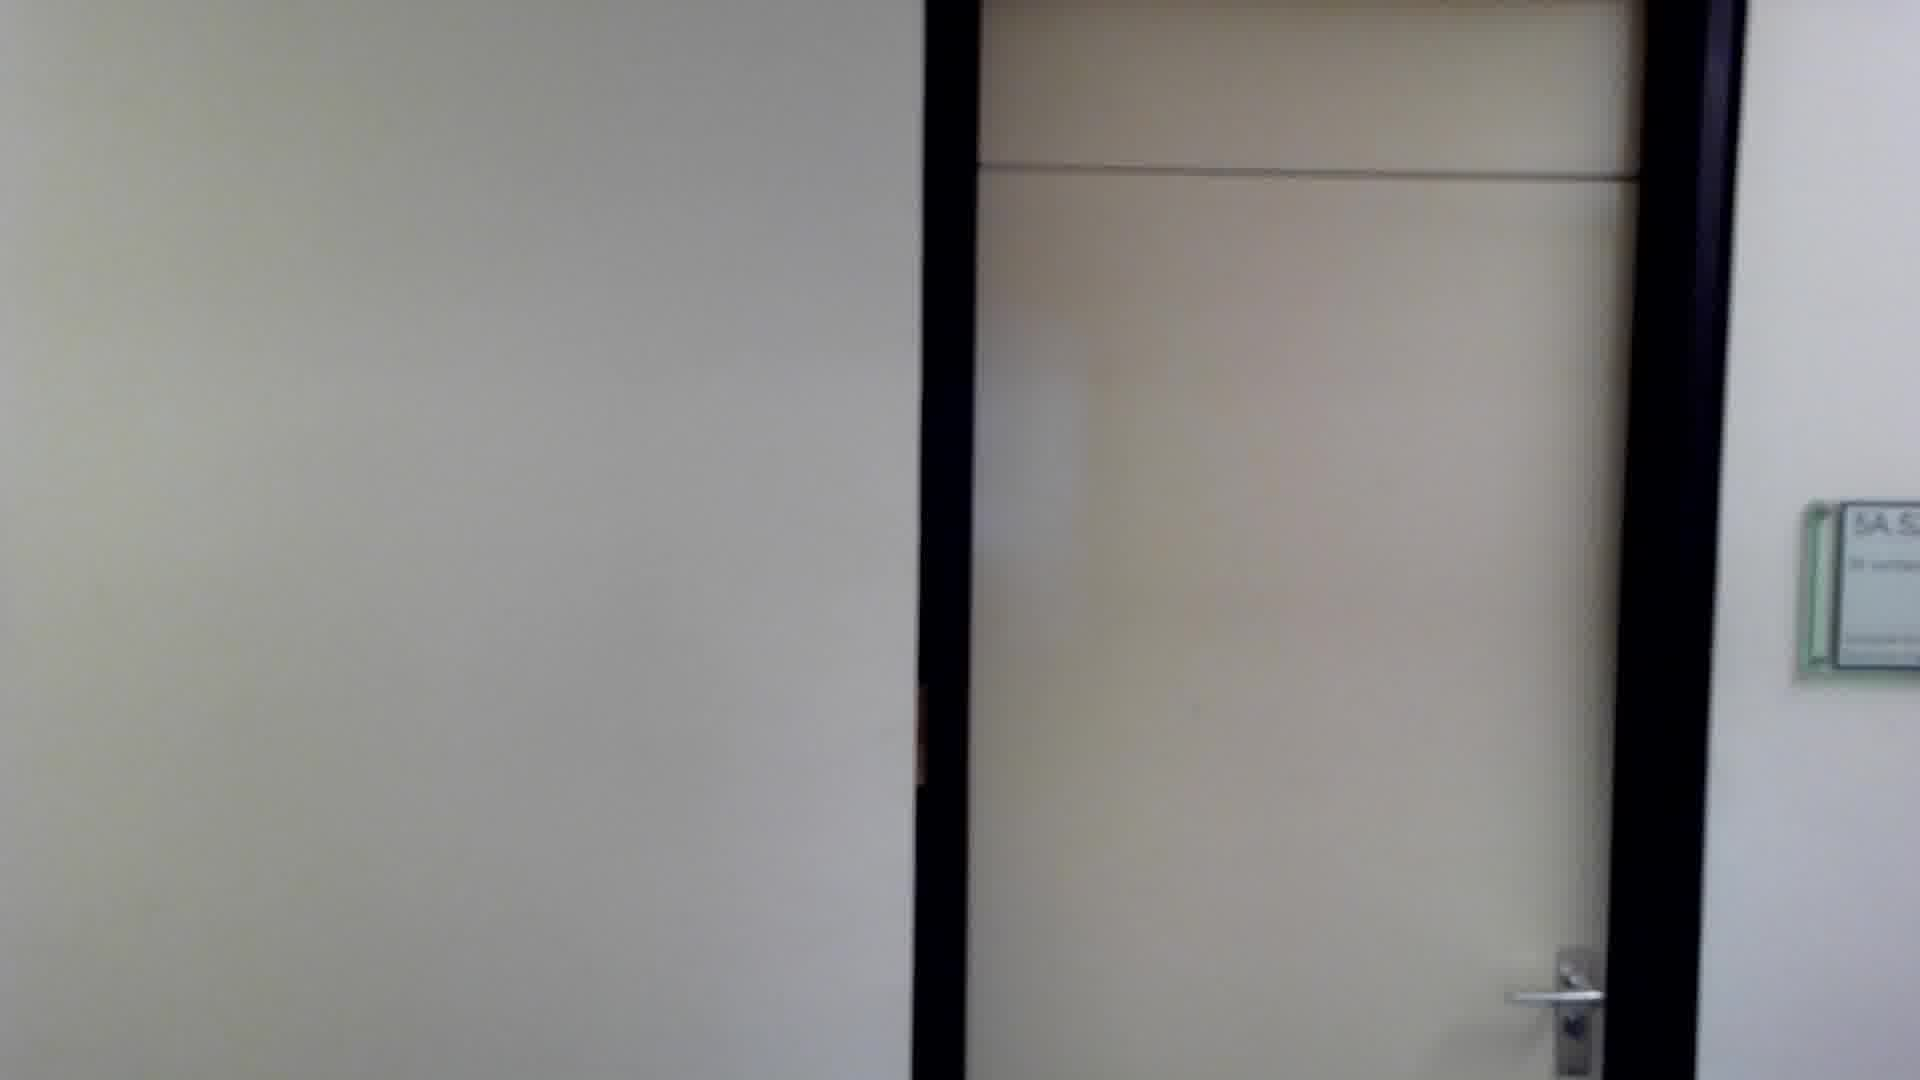Door: (905, 157, 1725, 1080)
